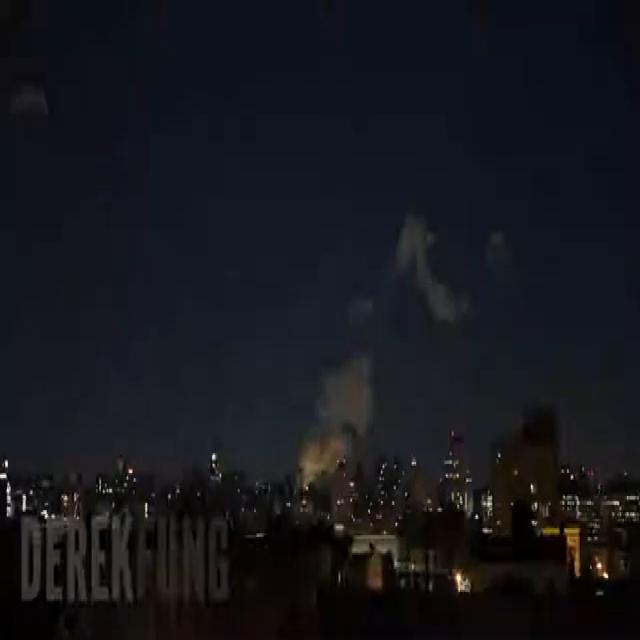smoke: (298, 341, 380, 482)
